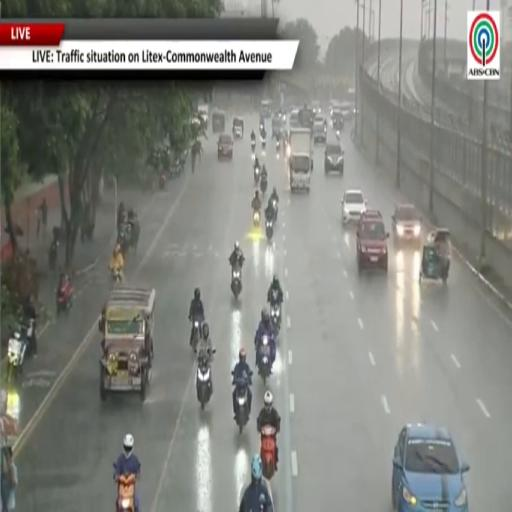car: (392, 424, 469, 511), (357, 211, 389, 273), (392, 204, 422, 245), (342, 189, 366, 225), (324, 140, 344, 174), (218, 134, 233, 159), (212, 109, 226, 133), (313, 118, 326, 143), (331, 109, 344, 131), (198, 104, 209, 129), (340, 102, 354, 120), (233, 117, 244, 139), (272, 115, 282, 138), (289, 109, 300, 128), (330, 100, 340, 116), (312, 101, 321, 116)
jeepney: (100, 287, 155, 401)
motorcycle: (6, 332, 28, 385), (235, 377, 250, 434), (261, 425, 276, 479), (257, 334, 272, 385), (117, 474, 136, 511), (197, 363, 211, 409), (57, 281, 73, 314), (20, 317, 36, 347), (270, 299, 281, 332), (191, 318, 201, 351), (231, 265, 241, 298), (49, 239, 58, 270), (111, 268, 122, 283), (266, 219, 273, 241), (260, 175, 267, 194), (272, 199, 278, 221), (159, 172, 166, 189), (253, 211, 260, 227), (254, 166, 260, 184), (261, 138, 266, 156), (251, 139, 255, 153), (276, 140, 280, 153), (336, 130, 340, 139)
truck: (288, 128, 312, 190)
